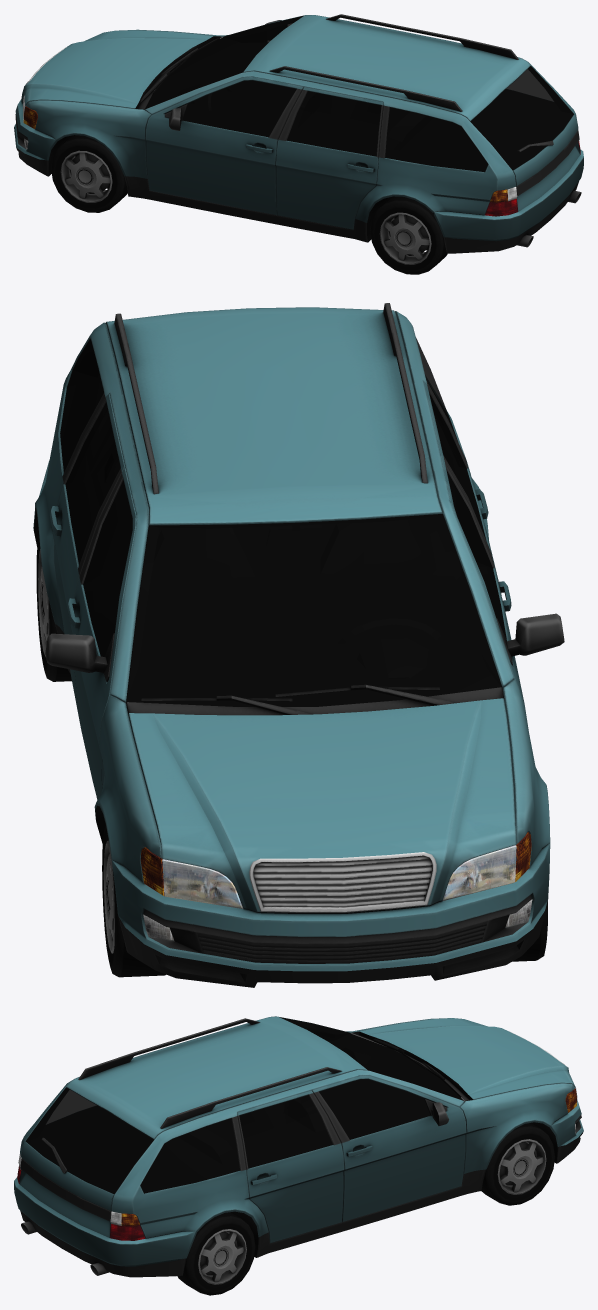
Rendered from car_03.glb.
3 views of the same model, one above another, from view 1: azimuth 30°, elevation 25°; view 2: azimuth 150°, elevation 25°; view 3: azimuth 270°, elevation 25° (orthographic). The views are drawn at different scales.
Parts seen in each view (by area): view 1: Wagon Body, Wheel_A001_Wheel_0.001, Wheel_A_Wheel_0.001; view 2: Wagon Body, Wheel_A002_Wheel_0.001, Wheel_A003_Wheel_0.001; view 3: Wagon Body, Wheel_A003_Wheel_0.001, Wheel_A002_Wheel_0.001.
Boxes of the visible parts, x1,y1,x2,y2 form: Wagon Body: (14,14,583,253); Wheel_A001_Wheel_0.001: (370,196,447,274); Wheel_A_Wheel_0.001: (51,135,127,212); Wagon Body: (33,303,564,987); Wheel_A002_Wheel_0.001: (102,824,165,977); Wheel_A003_Wheel_0.001: (36,534,71,681); Wagon Body: (14,1016,583,1277); Wheel_A003_Wheel_0.001: (177,1212,255,1295); Wheel_A002_Wheel_0.001: (481,1123,554,1205).
Bounding box in the file's own units: 3.43 × 1.38 × 4.09.
Materials: 4 (3 with a texture image).
